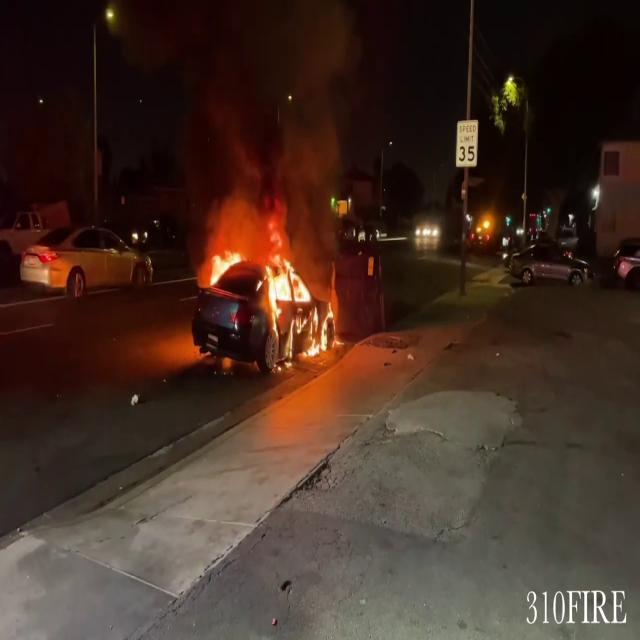Fire: (202, 228, 338, 360), (202, 241, 244, 291)
Smoke: (122, 0, 364, 239), (196, 0, 364, 243)
